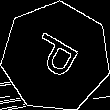P_SE: (25, 29, 86, 85)
